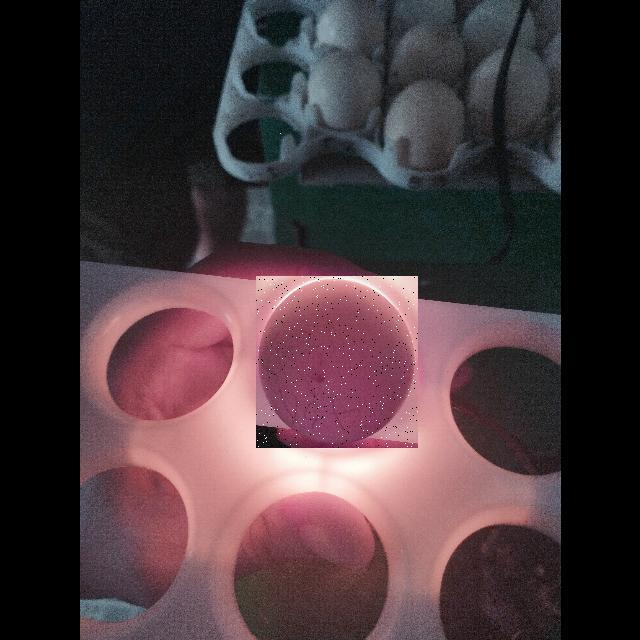Fertile: (256, 276, 418, 448)
